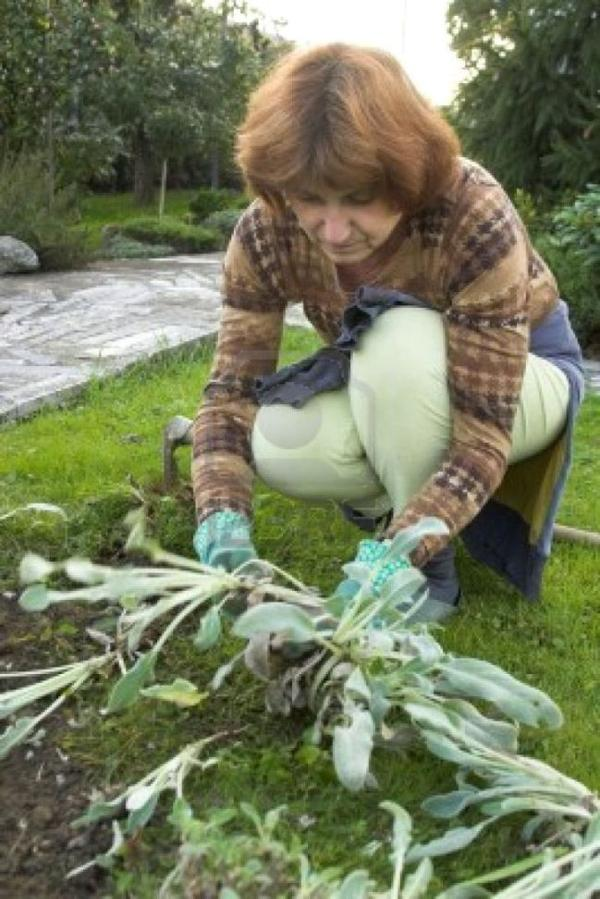person: (192, 39, 584, 641)
